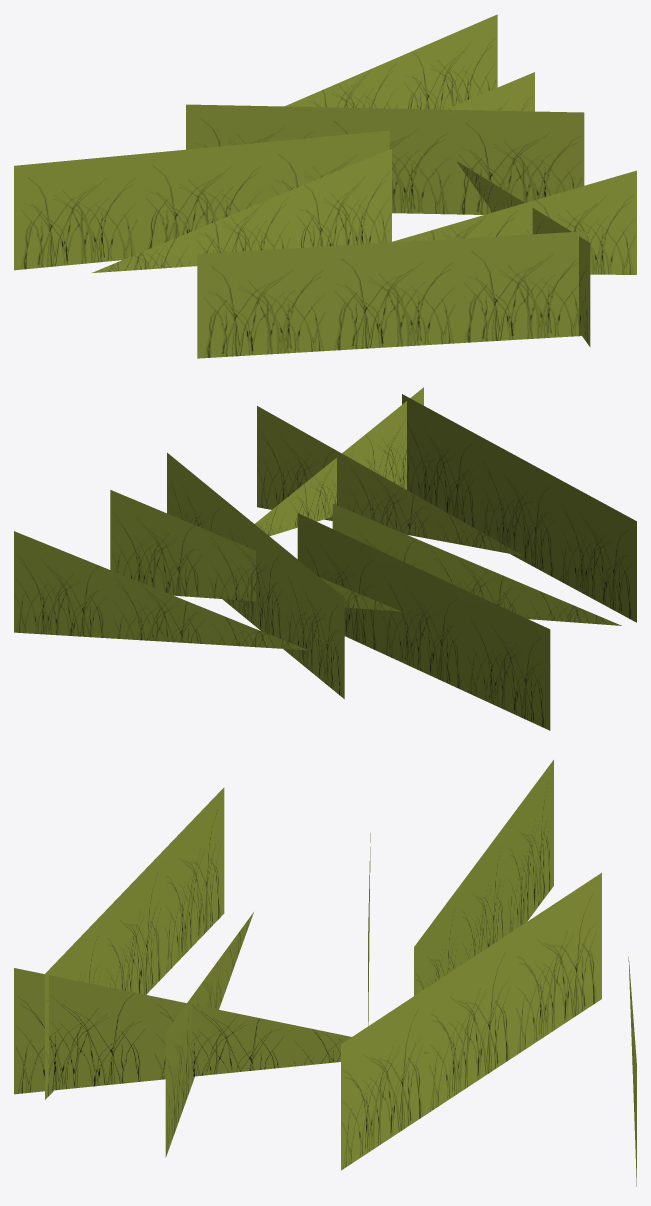
Rendered from Grass_LOD1.fbx.
3 renders of one model, top to bottom at view 1: azimuth 30°, elevation 25°; view 2: azimuth 150°, elevation 25°; view 3: azimuth 270°, elevation 25°, orthographic. The views are drawn at different scales.
Visible parts, largest first — view 1: Grass; view 2: Grass; view 3: Grass.
Boxes of the visible parts, x1,y1,x2,y2 form: Grass: (14,14,636,358); Grass: (14,387,636,730); Grass: (14,760,636,1186).
Bounding box in the file's own units: 404 × 77.9 × 348.
